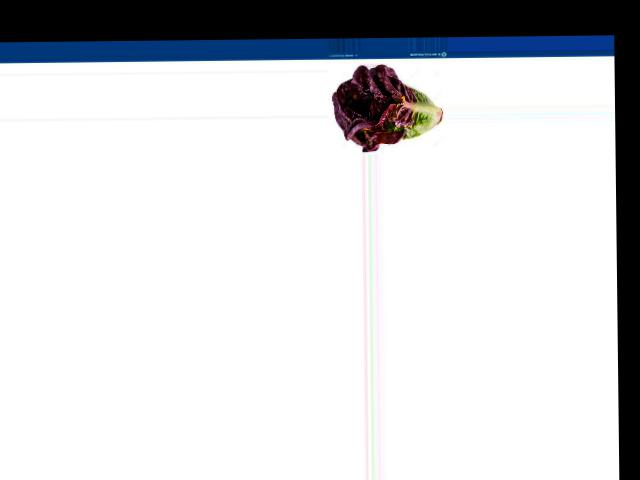lettuce: (333, 63, 444, 149)
